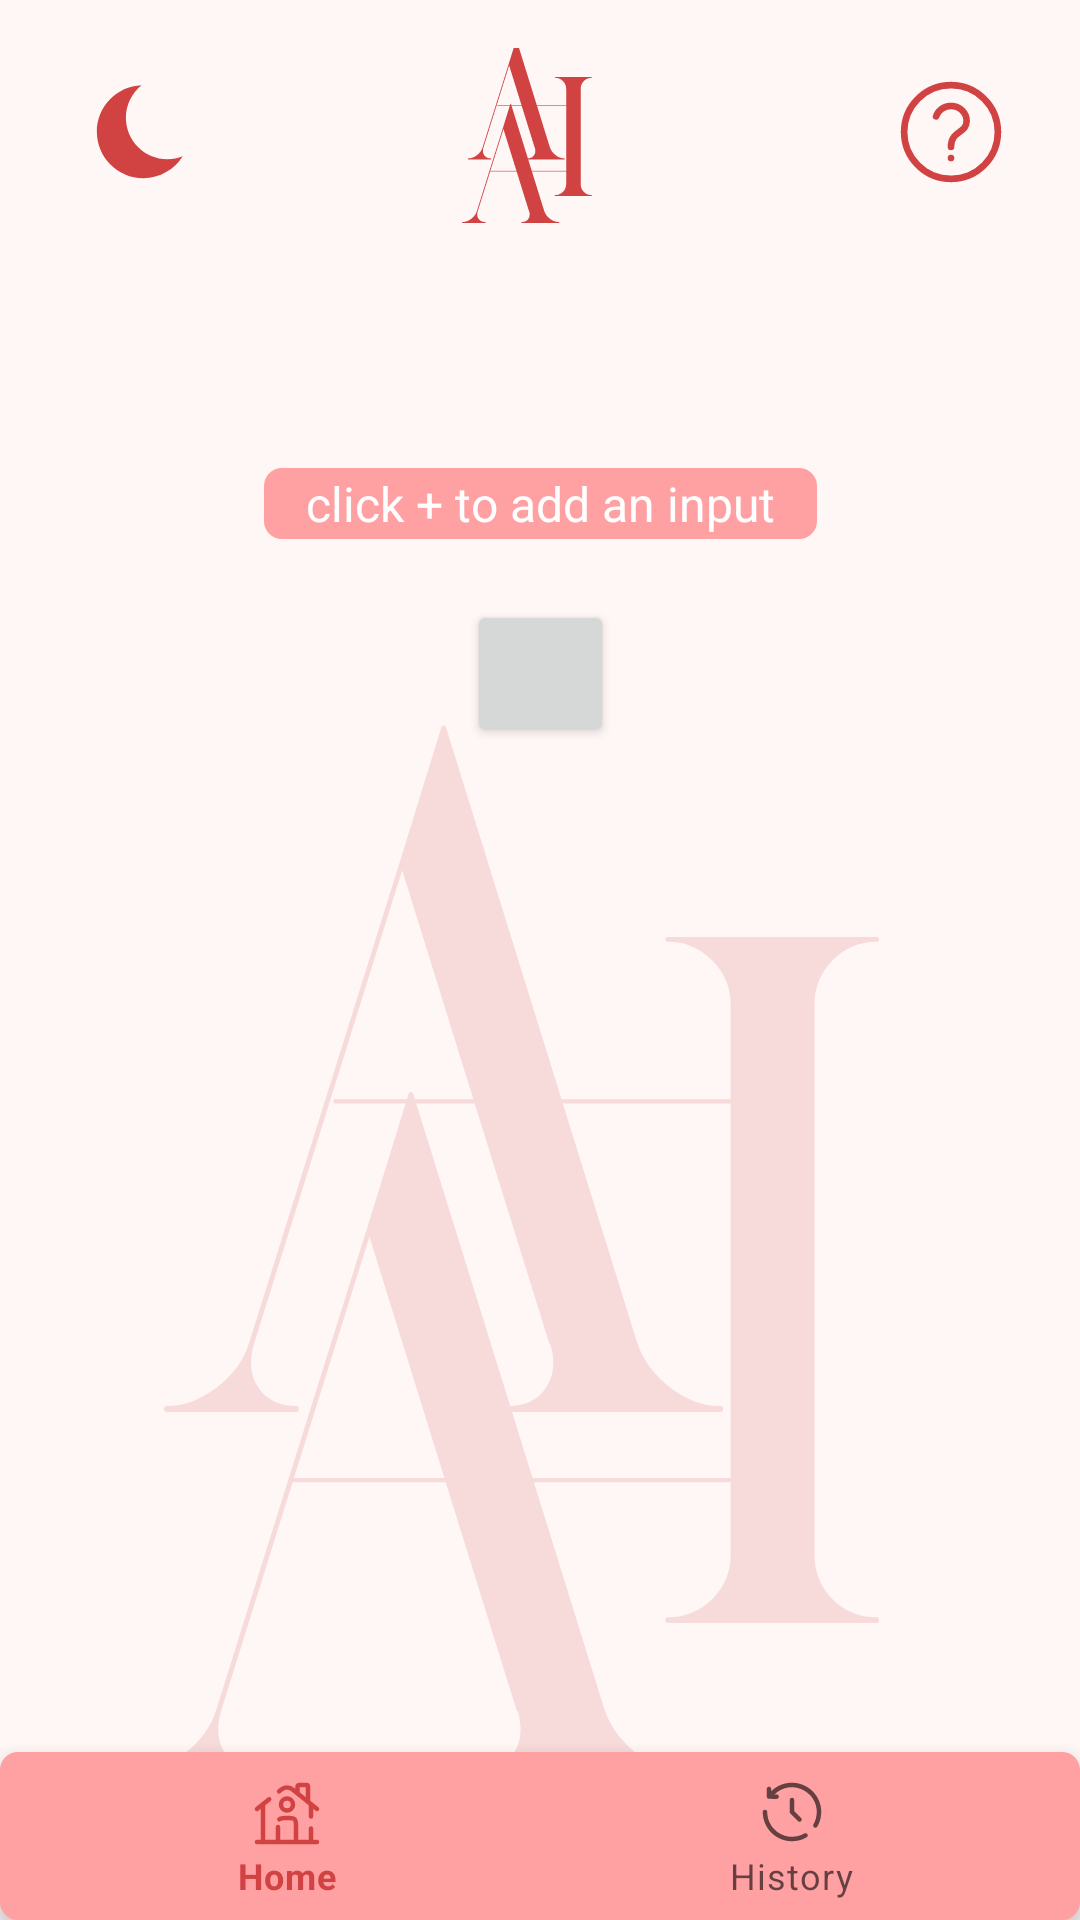

Icon click points for this 1080px x 1920px phone screenshot, format point (x, y):
mode moon: point (139, 132)
